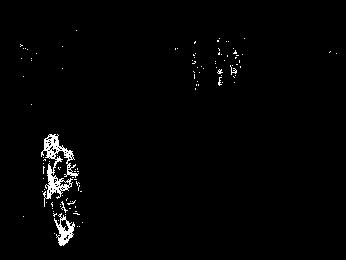person: (38, 132, 86, 247)
